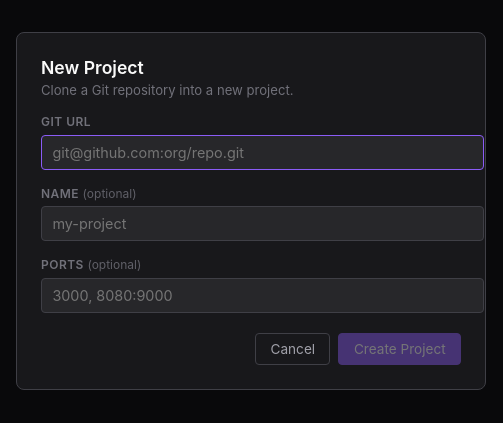
Test case: NewProjectWizard › shows error when port is out of range
This screenshot has width=503, height=423.
Type "git@github.com:org/alpha.git" into the field with placeholder "git@github.com:org/repo.git" at {"x": 262, "y": 152}, box [41,134,484,170]
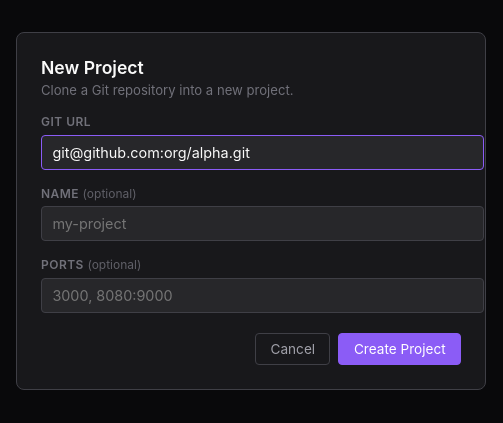
Type "99999" into the field with placeholder "3000, 8080:9000" at {"x": 262, "y": 295}, box [41,278,484,313]
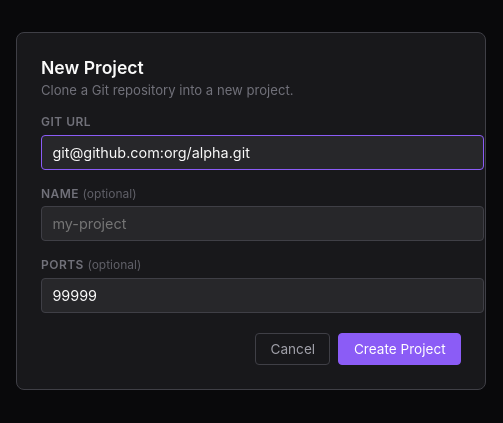
Click the button "Create Project" at {"x": 400, "y": 349}, box [338,333,461,365]
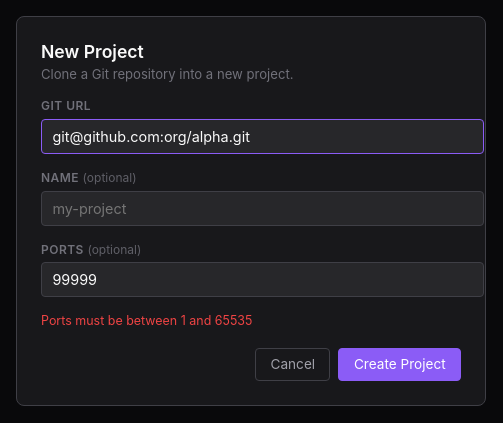
Result: the text "Ports must be between 1 and 65535" is shown at [41,313,252,328]
